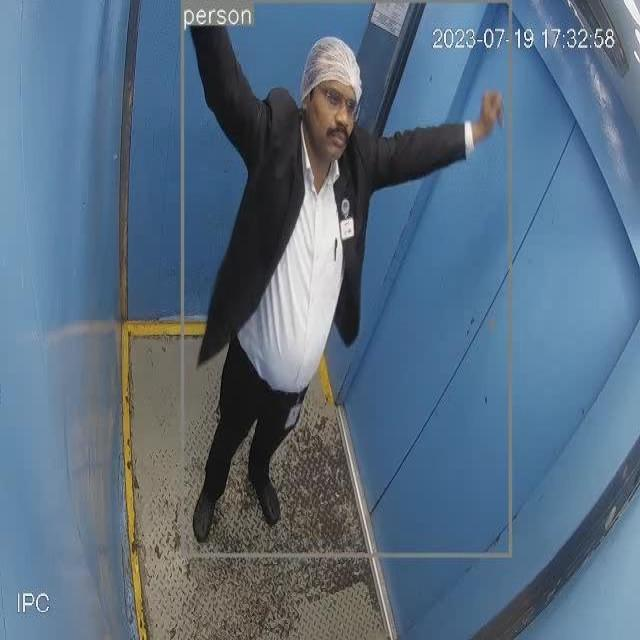person: (185, 7, 511, 557)
